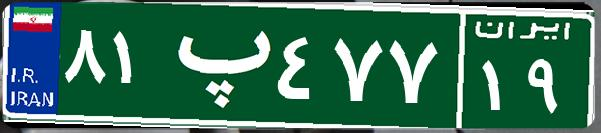1: (475, 38, 525, 113), (110, 28, 158, 105)
4: (273, 28, 330, 110)
7: (385, 28, 445, 110), (330, 28, 385, 110)
8: (57, 26, 110, 107)
9: (525, 38, 570, 115)
پ: (158, 15, 273, 115)
